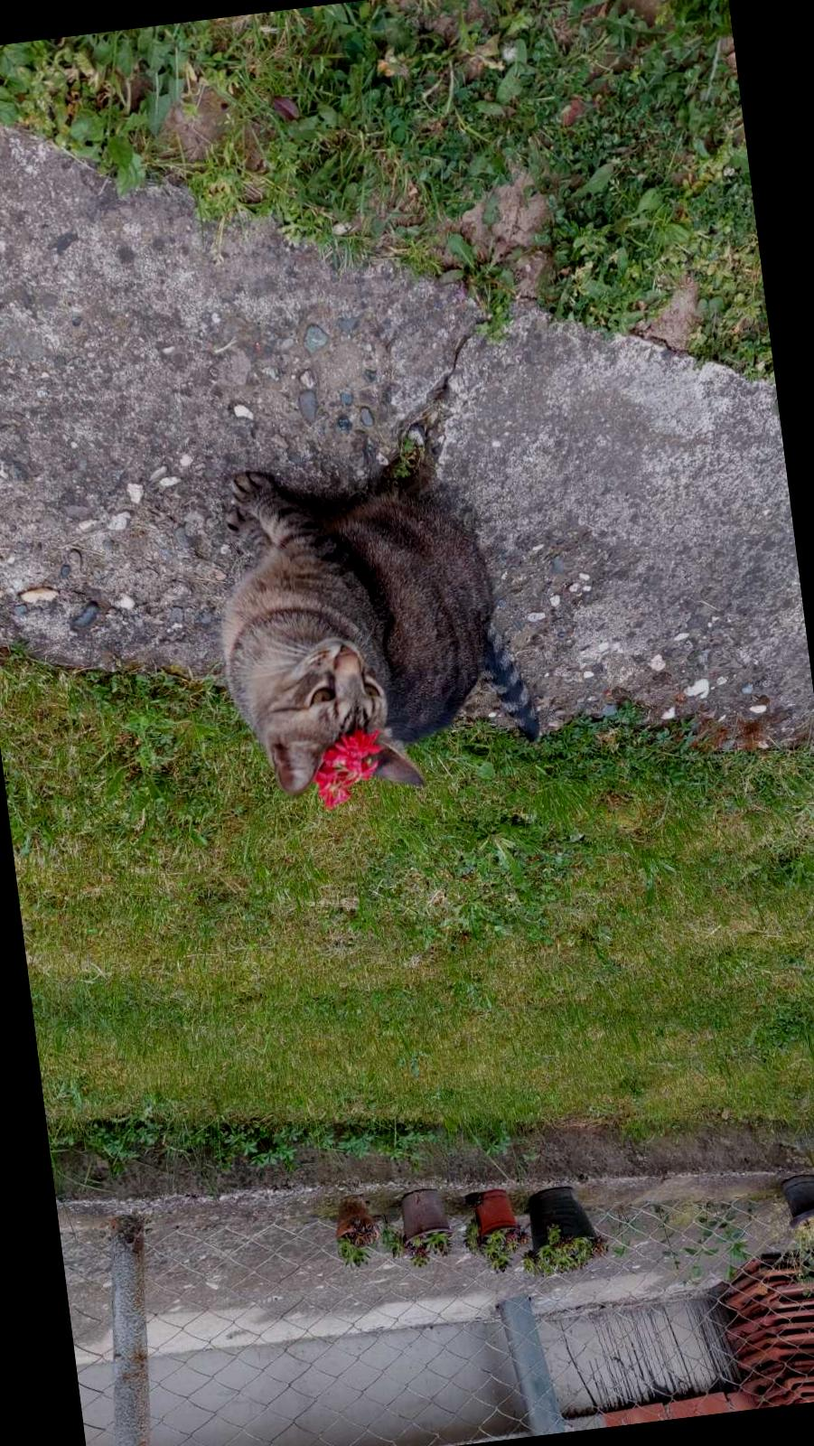macka: (199, 438, 543, 808)
